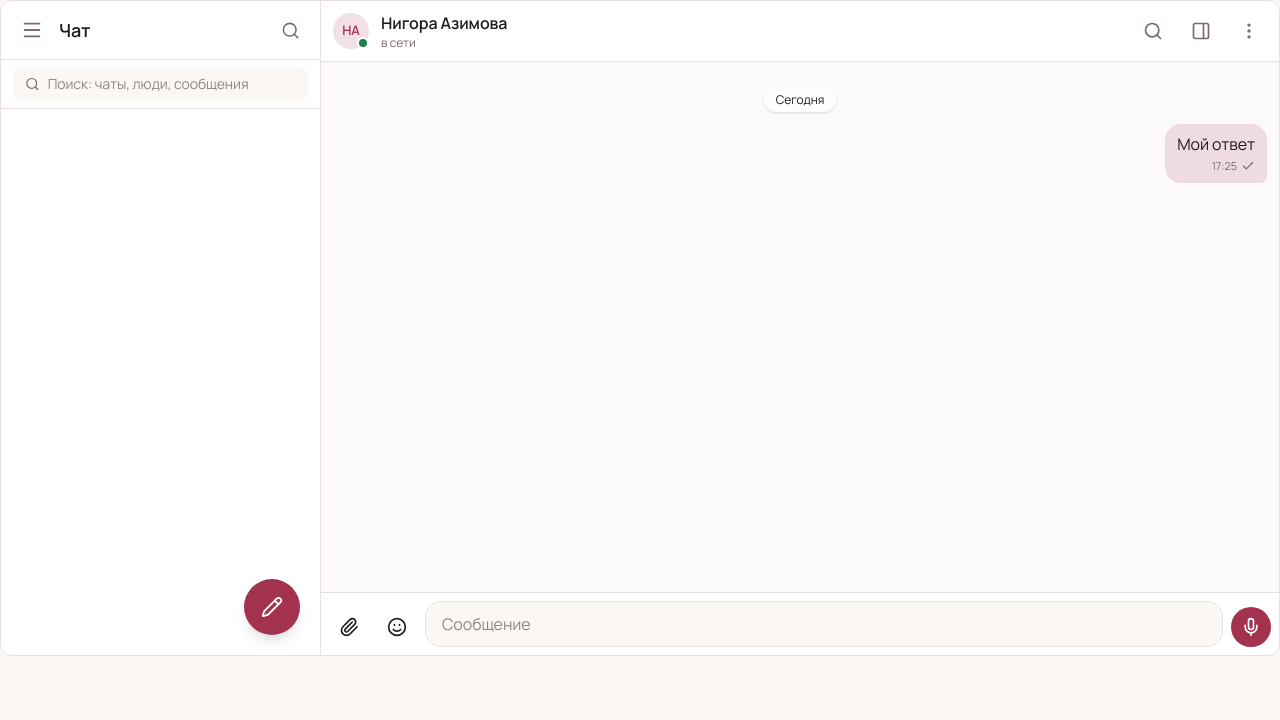
Scenario: «Чат» on the web (panel and worker web share it) › right click on a message: reactions on top, Ответить / Копировать / Переслать / Выделить; «прочитано в …»
The image size is (1280, 720).
Right-click the text "Мой ответ": (1216, 144) top-left (1177, 132), bottom-right (1255, 156)
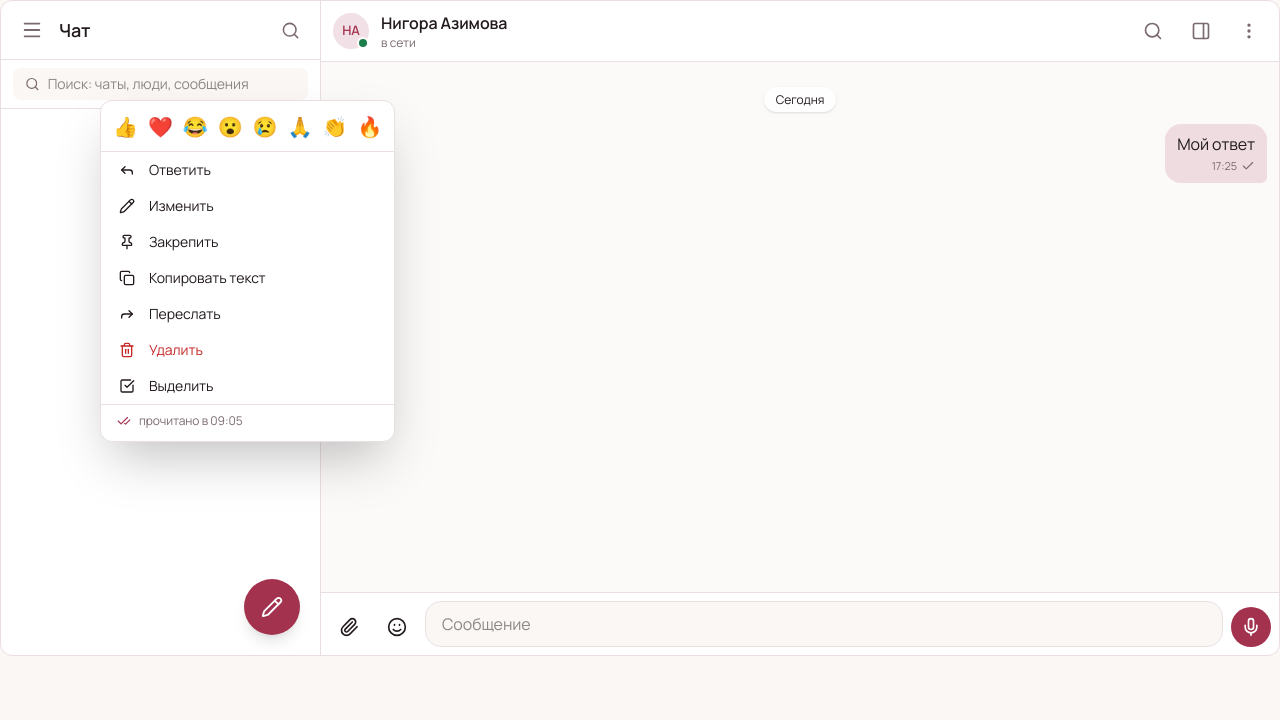
Expected: the menu is shown, top-left (100, 100), bottom-right (395, 442)
Expected: the button named "Реакция 👍" is shown, top-left (109, 109), bottom-right (142, 145)
Expected: the menu item "Ответить" is shown, top-left (101, 152), bottom-right (394, 188)
Click the menu item "Выделить": click(181, 386) top-left (101, 368), bottom-right (394, 404)
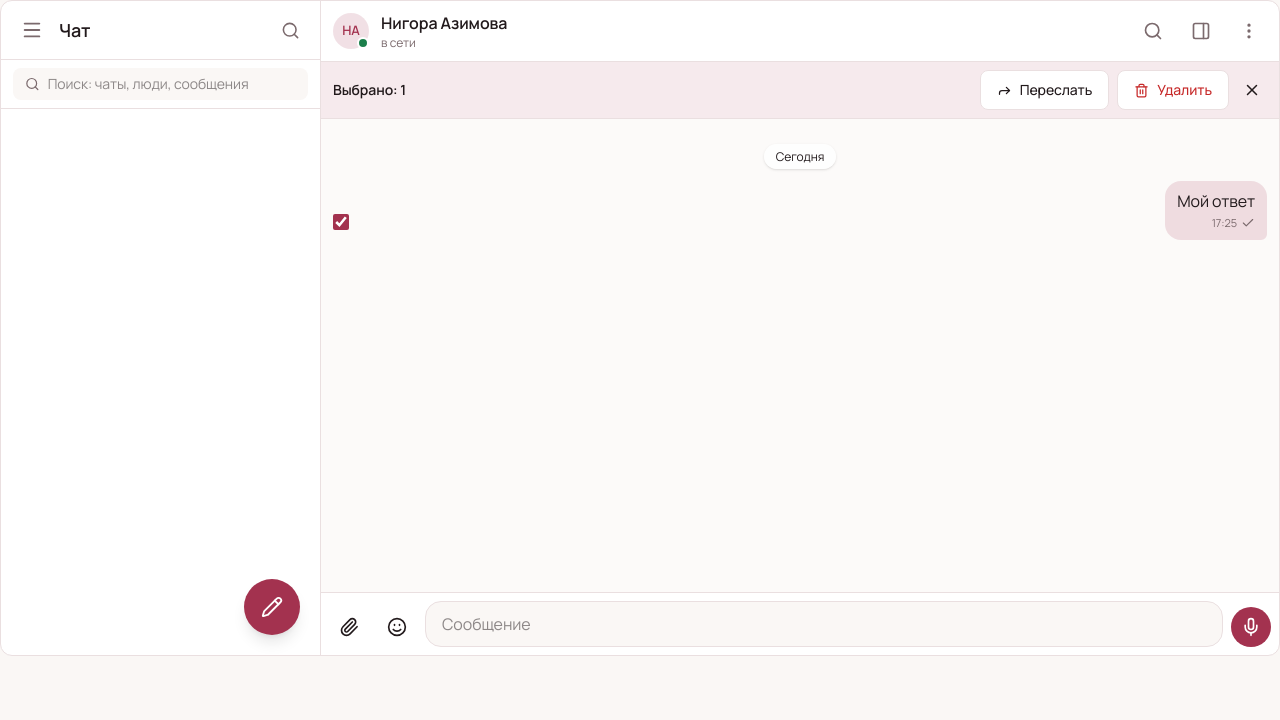
Expected: the text "Выбрано: 1" is shown, top-left (333, 80), bottom-right (406, 99)
